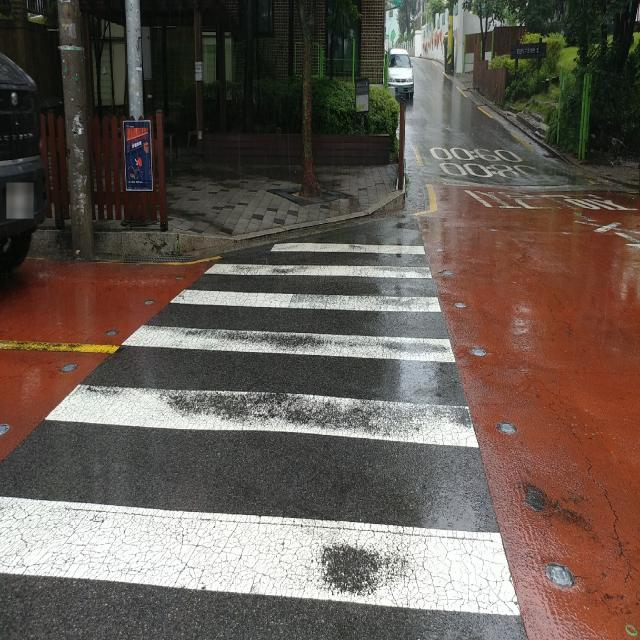횡단보도: (1, 232, 525, 625)
